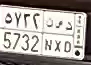2: (30, 11, 41, 53)
3: (21, 10, 31, 51)
5: (2, 11, 13, 50)
7: (12, 11, 22, 50)
D: (64, 20, 74, 54)
N: (43, 15, 54, 52)
X: (54, 19, 64, 53)
